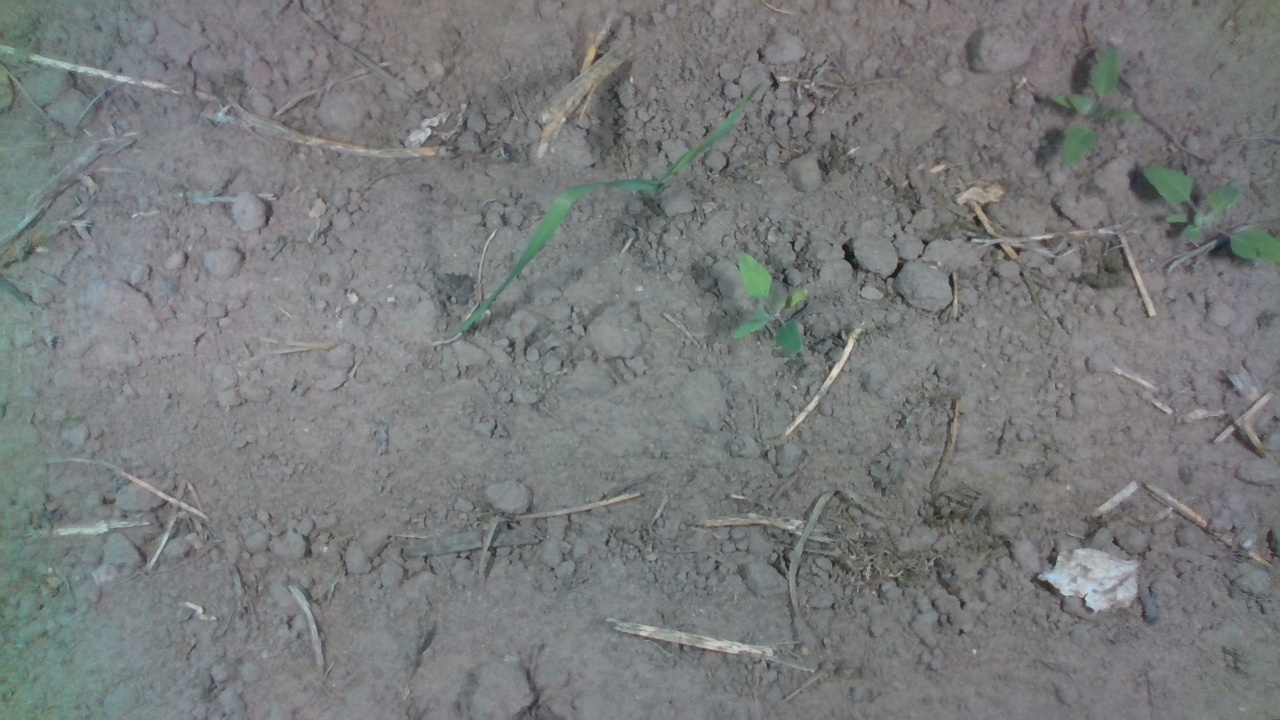weed: (1048, 47, 1142, 169), (727, 250, 809, 355)
